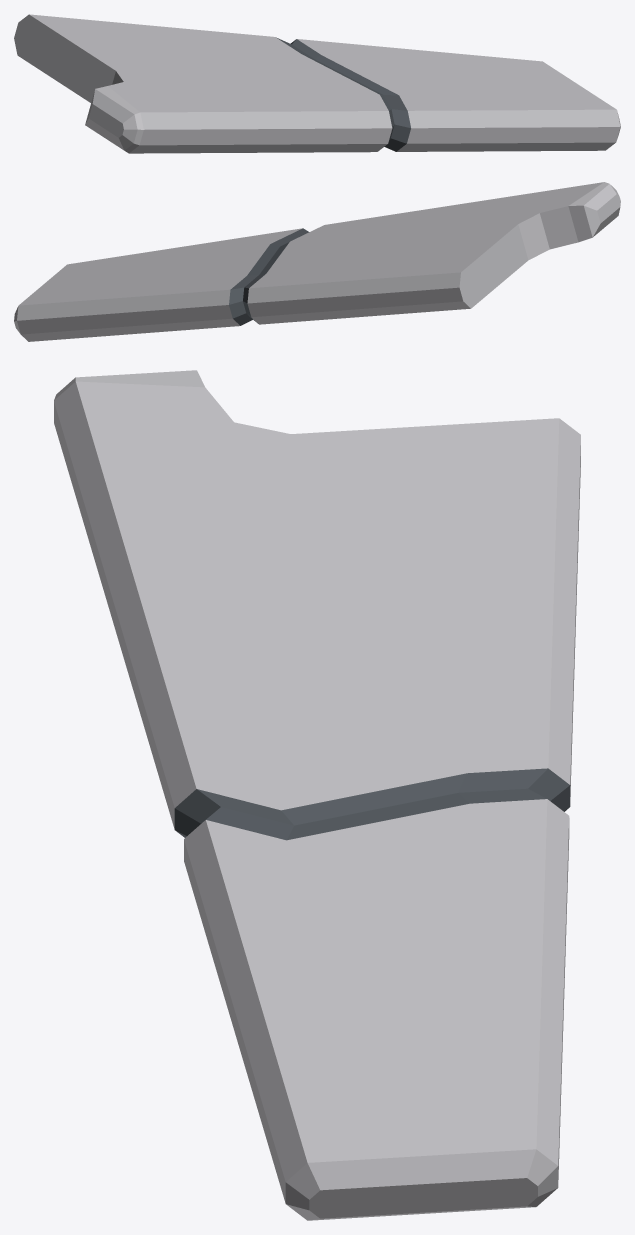
The model's file is Fighter_07_Auxillary_Wing_Left.fbx.
3 renders of one model, top to bottom at view 1: azimuth 30°, elevation 25°; view 2: azimuth 150°, elevation 25°; view 3: azimuth 270°, elevation 25°, orthographic. The views are drawn at different scales.
Visible parts, largest first — view 1: Fighter_07_Auxillary_Wing_Left; view 2: Fighter_07_Auxillary_Wing_Left; view 3: Fighter_07_Auxillary_Wing_Left.
Boxes of the visible parts, x1=… form: Fighter_07_Auxillary_Wing_Left: x1=14, y1=14, x2=620, y2=153; Fighter_07_Auxillary_Wing_Left: x1=14, y1=182, x2=620, y2=341; Fighter_07_Auxillary_Wing_Left: x1=54, y1=370, x2=580, y2=1220.
Bounding box in the file's own units: 412 × 149 × 186.
Materials: 1 (1 with a texture image).
